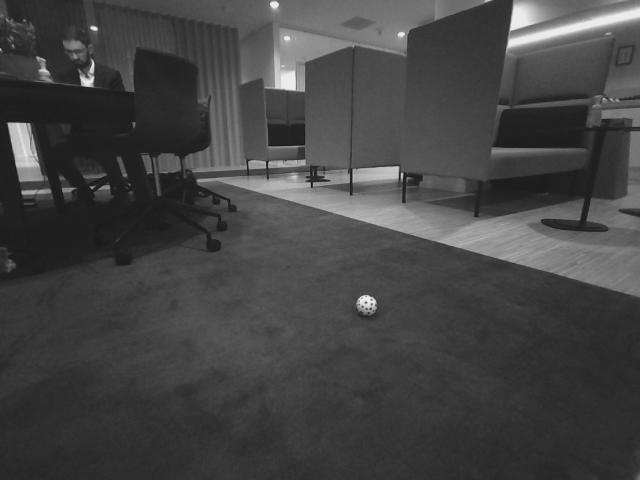dogtoy: (351, 288, 382, 320)
